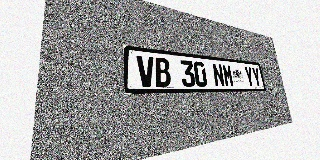0: (193, 61, 207, 87)
3: (180, 60, 196, 87)
B: (154, 57, 171, 87)
M: (222, 64, 234, 87)
N: (212, 63, 225, 87)
V: (137, 55, 155, 87)
Y: (244, 66, 255, 87), (251, 67, 262, 87)
